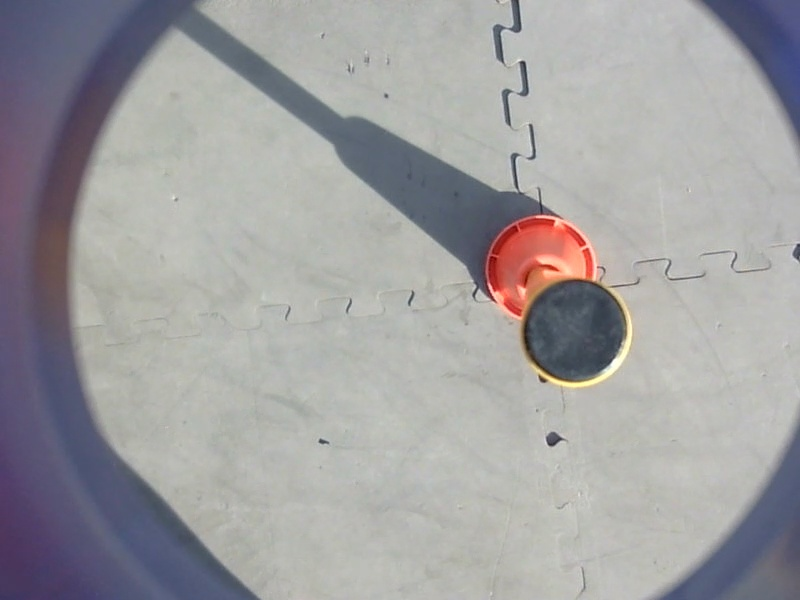tip: (516, 273, 636, 392)
